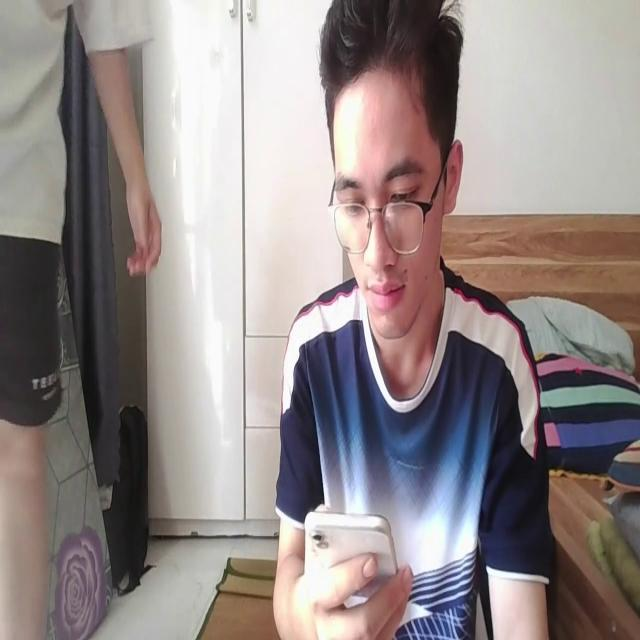extra_person: (0, 0, 164, 640)
student: (271, 3, 555, 640)
